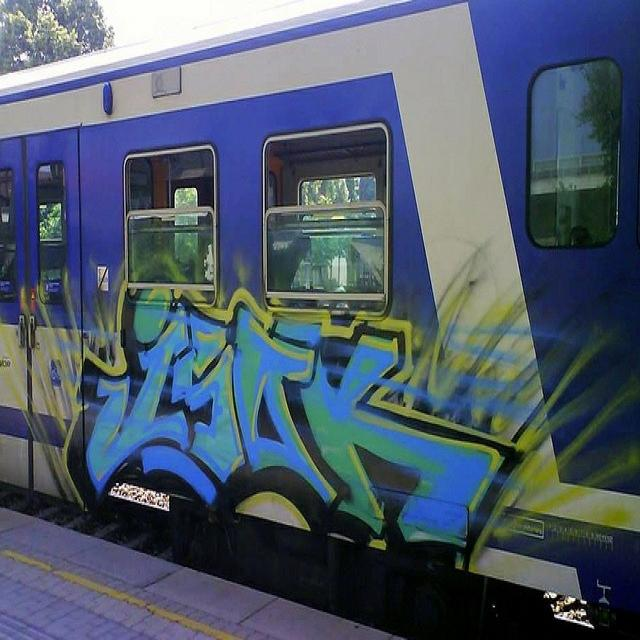dog: (267, 232, 311, 290)
